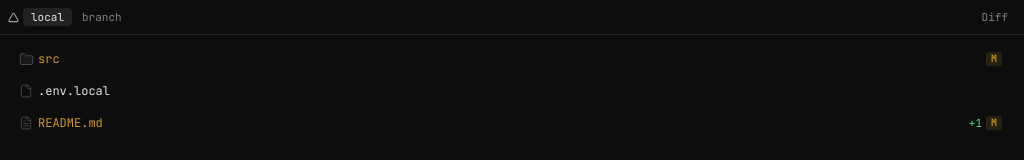
Test: FileTreeSidebar › single scope selector — always visible in the Files header › keeps rendering the same chips after switching to the flat Changes list
expect the text "README.md" is shown: met, box [38, 115, 103, 131]
Click the button with aria-label "Diff view off" at (995, 17), box [974, 6, 1016, 28]
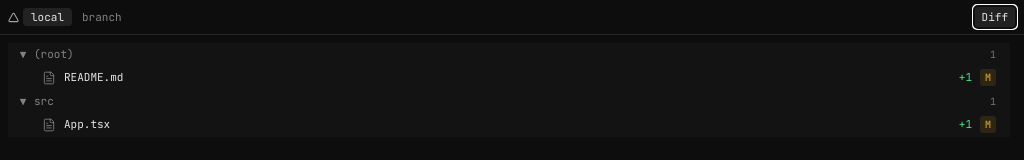
expect the button "local" is shown: met, box [23, 8, 72, 26]
expect the button with aria-label "Diff view on" is shown: met, box [974, 6, 1016, 28]
